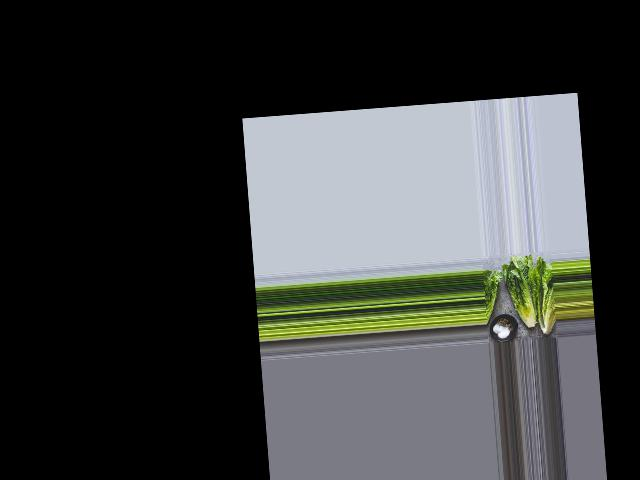lettuce: (531, 262, 556, 339)
